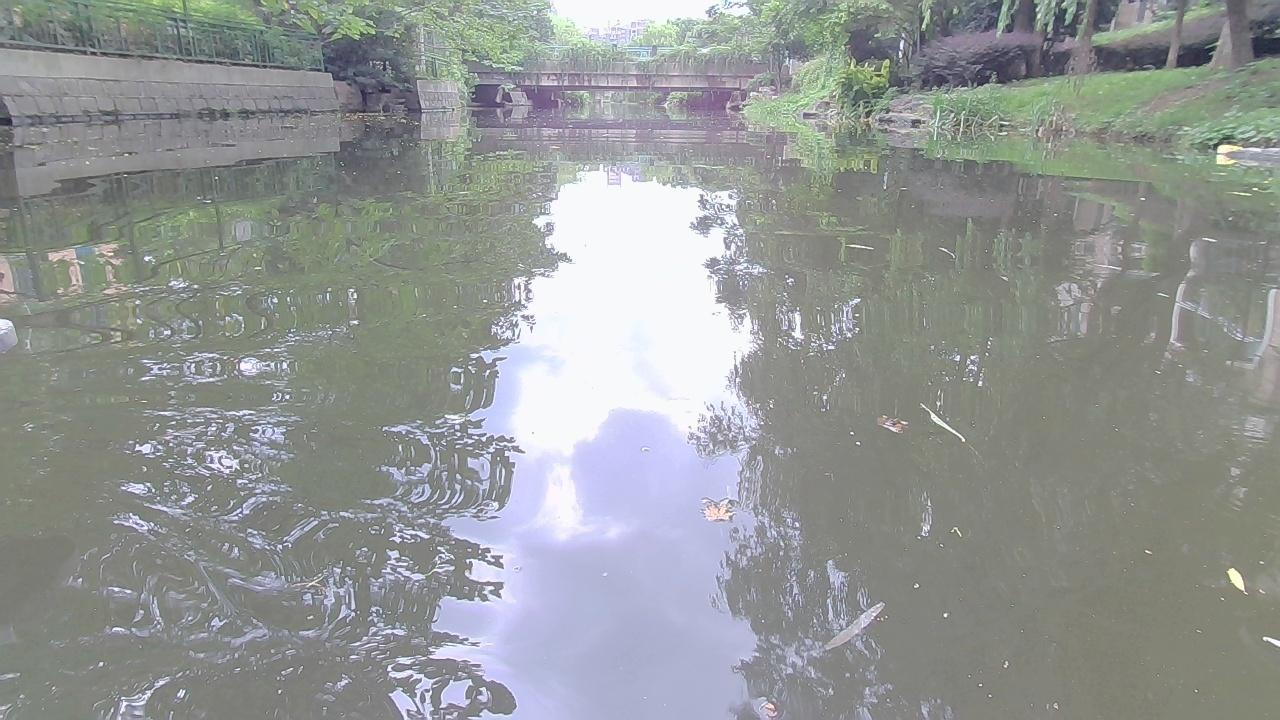bottle: (1216, 145, 1248, 159)
